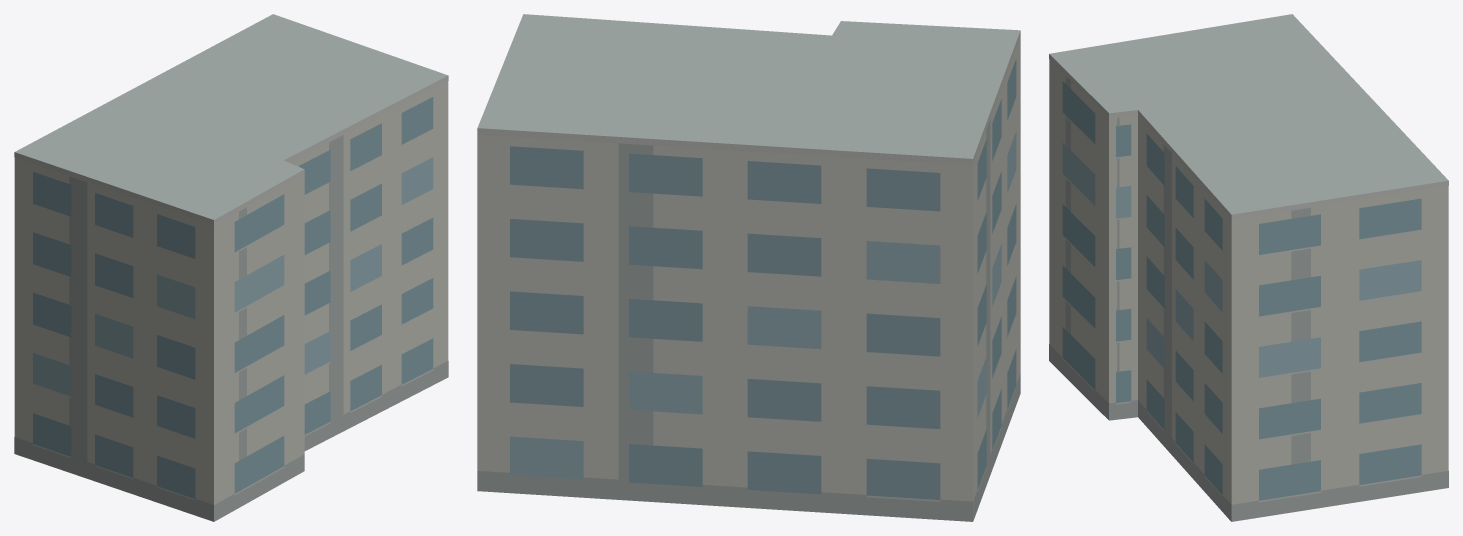
Rendered from survey-upis-32844779.glb.
3 renders of one model, left to right at view 1: azimuth 30°, elevation 25°; view 2: azimuth 150°, elevation 25°; view 3: azimuth 270°, elevation 25°, orthographic. The views are drawn at different scales.
Visible parts, largest first — view 1: survey-upis-32844779.tmp; view 2: survey-upis-32844779.tmp; view 3: survey-upis-32844779.tmp.
Boxes of the visible parts, left/top/right/bottom form: survey-upis-32844779.tmp: left=14, top=14, right=448, bottom=521; survey-upis-32844779.tmp: left=477, top=14, right=1020, bottom=521; survey-upis-32844779.tmp: left=1049, top=14, right=1448, bottom=521.
Size of the model in its own units: 19.06 by 13.6 by 16.04.
